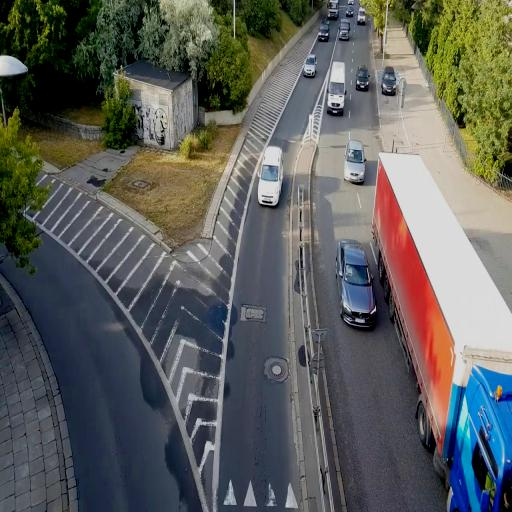vehicle: (370, 151, 512, 510), (336, 240, 378, 328), (256, 144, 284, 208), (344, 138, 366, 184), (381, 68, 399, 96), (355, 66, 370, 90), (302, 56, 317, 78), (338, 21, 350, 40), (318, 25, 330, 40)
